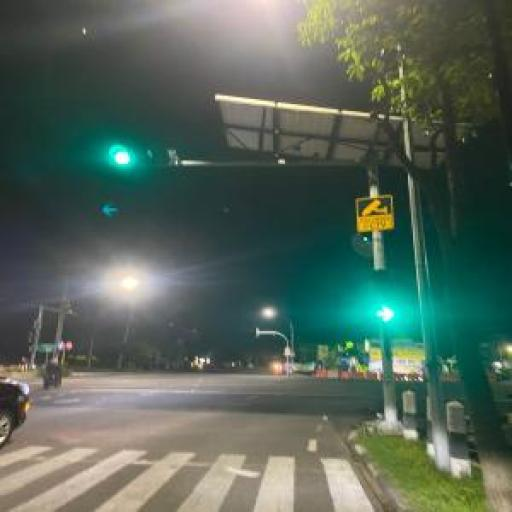book: (0, 364, 42, 451)
chair: (0, 445, 374, 512)
pole: (363, 273, 408, 326), (110, 142, 176, 171)
